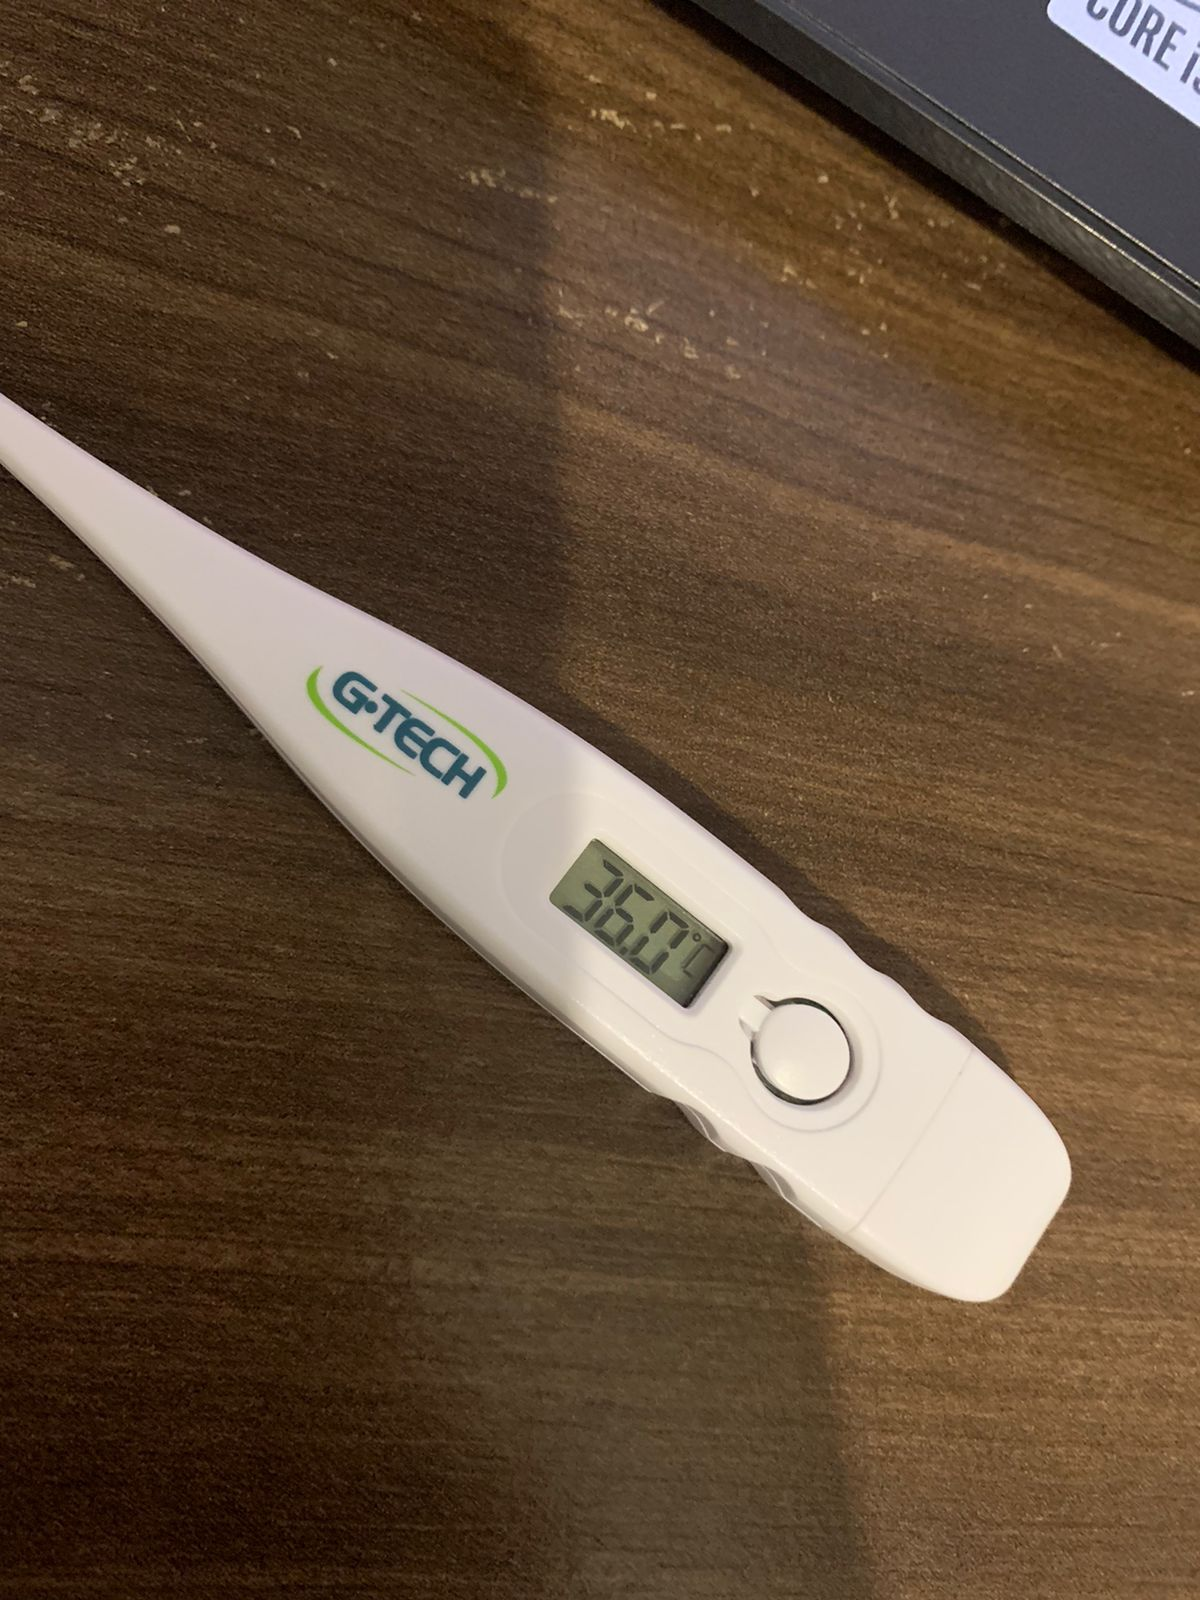display: (542, 835, 732, 1017)
